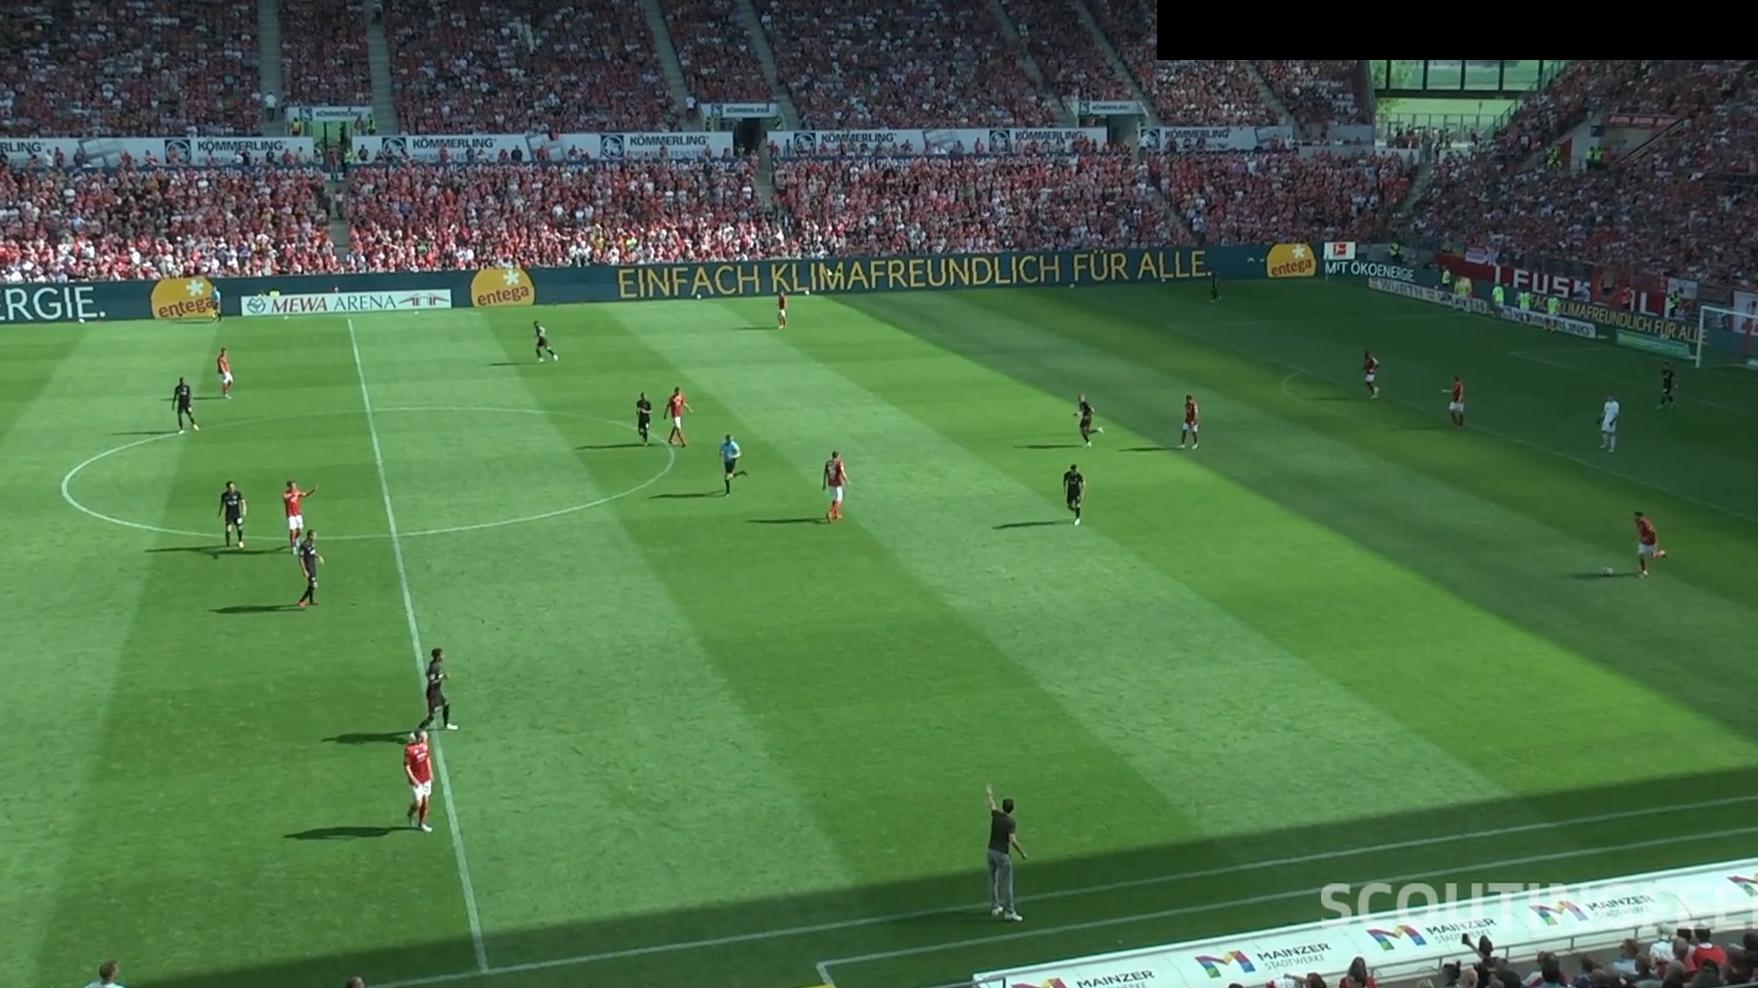ball: (1602, 565, 1613, 577)
